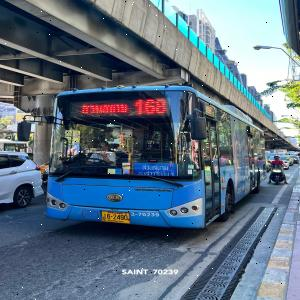BMTA-bus: (45, 86, 265, 230)
Bus Line Number: (133, 97, 169, 116)
Bus Side Number: (130, 209, 160, 219)
Destination Sign: (134, 162, 177, 178)
